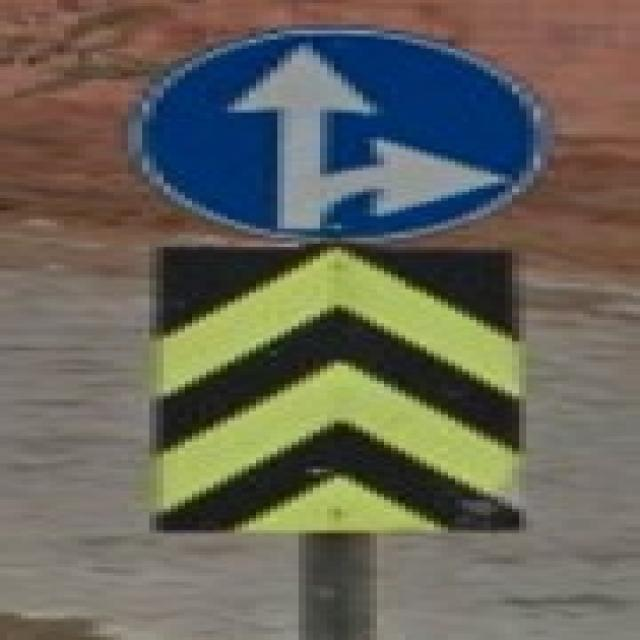Straight or Right: (133, 29, 545, 236)
